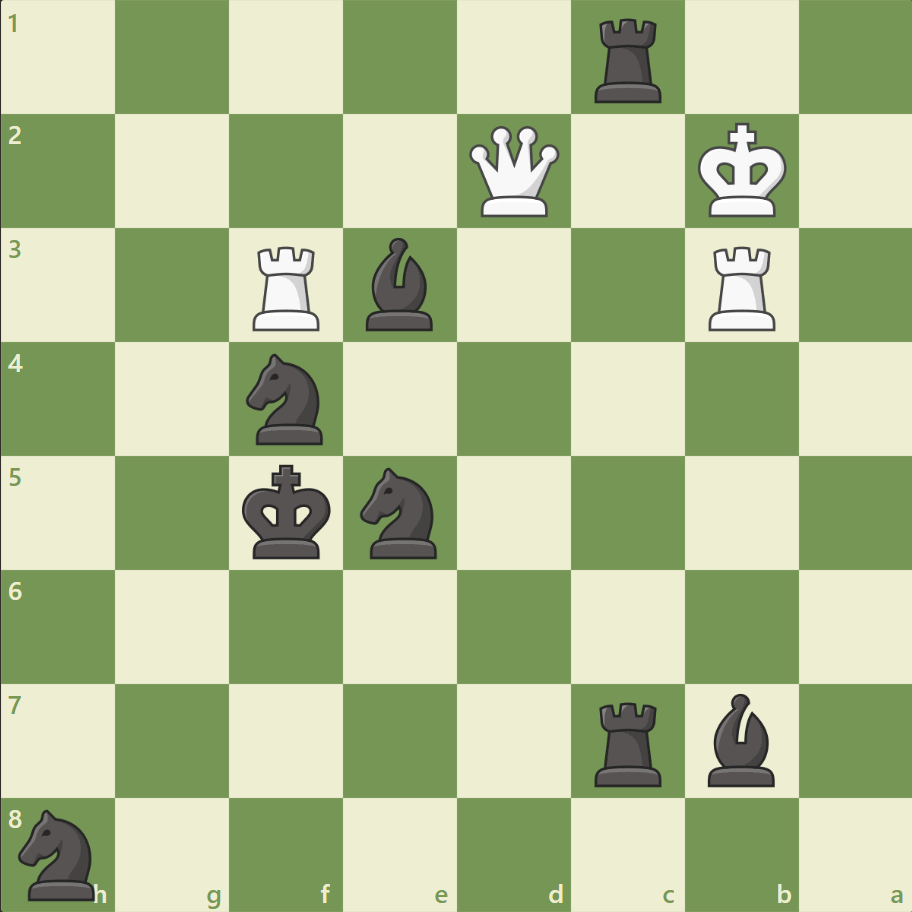K: (692, 117, 792, 225)
Q: (464, 122, 563, 222)
R: (700, 239, 783, 336), (246, 239, 329, 336)
b: (698, 687, 782, 790), (358, 233, 442, 336)
k: (238, 458, 338, 566)
n: (351, 461, 449, 564), (11, 802, 108, 904), (238, 348, 335, 450)
r: (587, 693, 670, 790), (587, 12, 670, 109)
